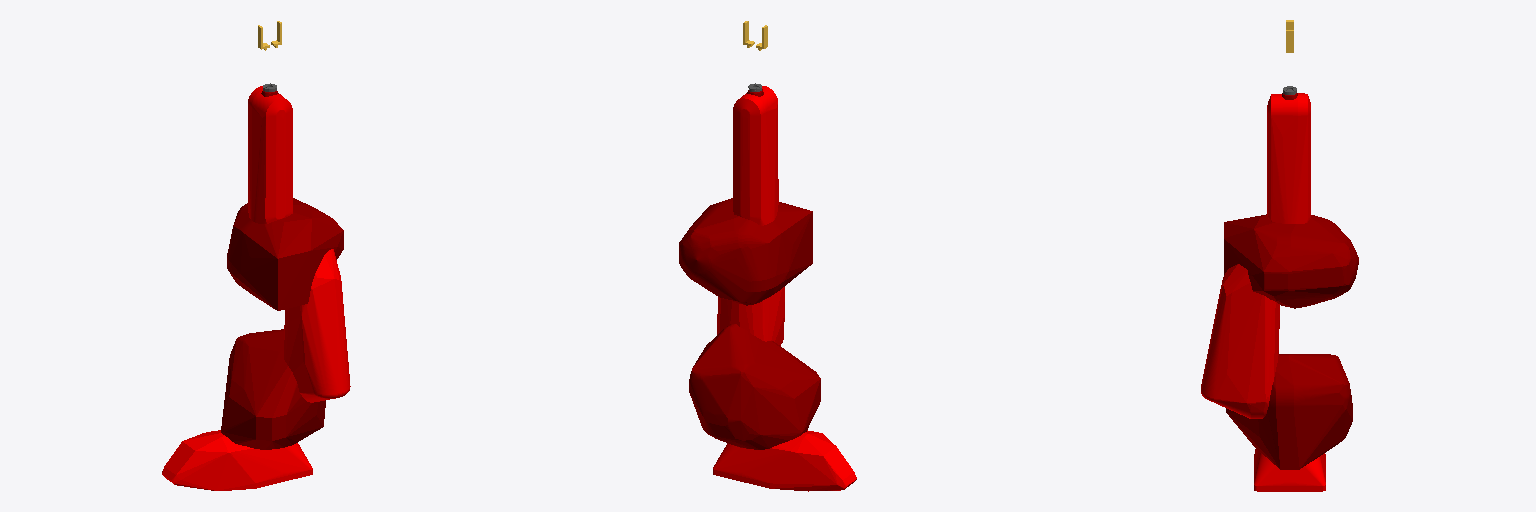
URDF robot description (comau_smart5_six):
<?xml version="1.0"?>
<robot name="comau_smart5_six" xmlns:xacro="http://ros.org/wiki/xacro">
  <material name="cyan">
    <color rgba="0 1 1 1"/>
  </material>
  <material name="dark_red">
    <color rgba="0.6 0.0 0 1"/>
  </material>
  <material name="red">
    <color rgba="1.0 0 0 1"/>
  </material>
  <material name="dark_grey">
    <color rgba="0.76 0.76 0.76 1" />
  </material>
  <material name="darker_grey">
    <color rgba="0.4 0.4 0.4 1" />
  </material>
  <material name="gripper_yellow">
    <color rgba="1.0 0.8 0.3 1" />
  </material>
  <material name="orange">
    <color rgba="1 0.64 0.0 1" />
  </material>
  <material name="black">
    <color rgba="0.0 0.0 0.0 1" />
  </material>

  <!-- **************** WORLD LINK ********************** -->
  <link name="world" />

  <!-- **************** BASE COMAU ********************** -->
  <link name="base_comau">
    <visual>
      <origin xyz="0 0 0" rpy="0 0 0" />
      <geometry>
      <mesh
      filename="package://render_robot_urdf/meshes/stl/base.stl"
      scale="0.001 0.001 0.001"
        />
      </geometry>
    
      <material name="red" />
    </visual>

  <inertial>
    <origin xyz="-0.10060 0.00262 0.08516" rpy="0 0 0" />
    <mass value="125.01405"/>
    <inertia
      ixx="0.81984" ixy="-0.08140" ixz="-0.08589"
      iyy="2.56616" iyz="0.00694"
      izz="2.84953"/>
  </inertial>

  <collision>
    <origin xyz="0 0 0" rpy="0 0 0" />
    <geometry>
      <mesh
      filename="package://render_robot_urdf/meshes/stl/base.stl"
      scale="0.001 0.001 0.001"
        />
    </geometry>
  </collision>
  </link>
  
  <!-- **************** AXIS 1 ********************** -->
  <link name="axes_1">
  <visual>
    <geometry>
    <mesh
	filename="package://render_robot_urdf/meshes/stl/axes_1.stl"
	scale="0.001 0.001 0.001"
      />
    </geometry>
    
    <material name="dark_red" />
  </visual>

  <inertial>
    <origin xyz="0.03242 0.01778 0.12409" rpy="0 0 0" />
    <mass value="61.340186"/>
    <inertia
      ixx="7.439629" ixy="1.308878" ixz="-0.207593"
      iyy="1.34393" iyz="0.801292"
      izz="7.58969" />
  </inertial>

  <collision>
    <origin xyz="0 0 0" rpy="0 0 0" />
    <geometry>
      <mesh
      filename="package://render_robot_urdf/meshes/stl/axes_1.stl"
      scale="0.001 0.001 0.001"
        />
    </geometry>
  </collision>
  </link>

  <!-- **************** AXIS 2 ********************** -->
  <link name="axes_2">
  <visual>
    
    <geometry>
    <mesh 
      filename="package://render_robot_urdf/meshes/stl/axes_2.stl"
      scale="0.001 0.001 0.001"
      />
    </geometry>
    
    <material name="red" />
  </visual>

  <inertial>
    <origin xyz="-0.00776 0.01741 0.18315" rpy="0 0 0" />
    <mass value="27.961877"/>
    <inertia
      ixx="0.647025" ixy="0.072866" ixz="0.849004"
      iyy="2.614907" iyz="-0.047671"
      izz="2.081713" />
  </inertial>

  <collision>
    <origin xyz="0 0 0" rpy="0 0 0" />
    <geometry>
      <mesh 
      filename="package://render_robot_urdf/meshes/stl/axes_2.stl"
      scale="0.001 0.001 0.001"
        />
    </geometry>
  </collision>
  </link>

  <!-- **************** AXIS 3 ********************** -->
  <link name="axes_3">
  <visual>
    <geometry>
    <mesh 
      filename="package://render_robot_urdf/meshes/stl/axes_3.stl"
      scale="0.001 0.001 0.001"
      />
    </geometry>
    
    <material name="dark_red" />
  </visual>

  <inertial>
    <origin xyz="-0.02847 -0.02463 0.09430" rpy="0 0 0" />
    <mass value="20.628123"/>
    <inertia
      ixx="0.237192" ixy="-0.008851" ixz="0.063039"
      iyy="0.287495" iyz="-0.002462"
      izz="0.37129" />
  </inertial>

  <collision>
    <origin xyz="0 0 0" rpy="0 0 0" />
    <geometry>
      <mesh
      filename="package://render_robot_urdf/meshes/stl/axes_3.stl"
      scale="0.001 0.001 0.001"
        />
    </geometry>
  </collision>
  </link>

  <!-- **************** AXIS 4 ********************** -->
  <link name="axes_4">
  <visual>    
    <geometry>
    <mesh 
      filename="package://render_robot_urdf/meshes/stl/axes_4.stl"
      scale="0.001 0.001 0.001"
      />
    </geometry>
    
    <material name="red" />
  </visual>

  <inertial>
    <origin xyz="0.26341 -0.00244 -0.00002" rpy="0 0 0" />
    <mass value="19.701023"/>
    <inertia
      ixx="1.53526" ixy="0.000725" ixz="-0.005893"
      iyy="0.087447" iyz="0.00579"
      izz="1.561065" />
  </inertial>

  <collision>
    <origin xyz="0 0 0" rpy="0 0 0" />
    <geometry>
      <mesh
      filename="package://render_robot_urdf/meshes/stl/axes_4.stl"
      scale="0.001 0.001 0.001"
        />
    </geometry>
  </collision>
  </link>

  <!-- **************** AXIS 5 ********************** -->
  <link name="axes_5">
  <visual>    
    <geometry>
    <mesh
       filename="package://render_robot_urdf/meshes/stl/axes_5.stl"
      scale="0.001 0.001 0.001"
      />
    </geometry>
    
    <material name="dark_red" />
  </visual>

  <inertial>
    <origin xyz="0.02065 0.00074 -0.00007" rpy="0 0 0" />
    <mass value="2.020671"/>
    <inertia
      ixx="0.003867" ixy="0.000004" ixz="0.000714"
      iyy="0.003656" iyz="-0.000006"
      izz="0.003066" />
  </inertial>

  <collision>
    <origin xyz="0 0 0" rpy="0 0 0" />
    <geometry>
      <mesh      
      filename="package://render_robot_urdf/meshes/stl/axes_5.stl"
      scale="0.001 0.001 0.001"
        />
    </geometry>
  </collision>
  </link>

  <!-- **************** AXIS 6 ********************** -->
  <link name="axes_6">
  <visual>    
    <geometry>
    <mesh 
      filename="package://render_robot_urdf/meshes/stl/axes_6.stl"
      scale="0.001 0.001 0.001"
      />
    </geometry>
    
    <material name="darker_grey" />
  </visual>

  <inertial>
    <origin xyz="-0.00746 -0.00003 -0.00067" rpy="0 0 0" />
    <mass value="0.241159"/>
    <inertia
      ixx="0.001911" ixy="0.000000" ixz="-0.000007"
      iyy="0.001905" iyz="0.000001"
      izz="0.000118" />
  </inertial>

  <collision>
    <origin xyz="0 0 0" rpy="0 0 0" />
    <geometry>
      <mesh
      filename="package://render_robot_urdf/meshes/dae/axes_6.dae"
      scale="0.001 0.001 0.001"
        />
    </geometry>
  </collision>
  </link>

<!--************************************************************************************-->

<!--**********************************************************************-->
<!--************************* CILINDRO_BASE_LMS_400 ******************************-->

 <link name="blocco_cilindro_base">
  <visual>
    <geometry>
    <mesh
       filename="package://render_robot_urdf/meshes/stl/box.stl"
      scale="1 1 1"
      />
    </geometry>
    
    <material name="darker_grey" />
  </visual>

  <inertial>
    <origin xyz="0.02065 0.00074 -0.00007" rpy="0 0 0" />
    <mass value="2.020671"/>
    <inertia
      ixx="0.003867" ixy="0.000004" ixz="0.000714"
      iyy="0.003656" iyz="-0.000006"
      izz="0.003066" />
  </inertial>

  <collision>
    <origin xyz="0 0 0" rpy="0 0 0" />
    <geometry>
      <mesh      
      filename="package://render_robot_urdf/meshes/stl/box.stl"
      scale="1 1 1"
        />
    </geometry>
  </collision>
  </link>

<!--*****************************************************************************************-->

<link name="piastra_supporto">
  <!--<visual>
    <geometry>
    <box size="0.35 0.35 0.50"/>
    </geometry>
    
    <material name="dark_grey" />
  </visual>-->

  <inertial>
    <origin xyz="0.02065 0.00074 -0.00007" rpy="0 0 0" />
    <mass value="2.020671"/>
    <inertia
      ixx="0.003867" ixy="0.000004" ixz="0.000714"
      iyy="0.003656" iyz="-0.000006"
      izz="0.003066" />
  </inertial>

  <collision>
    <origin xyz="0 0 0" rpy="0 0 0" />
    <geometry>
      <box size="0.35 0.35 0.50"/>
    </geometry>
  </collision>
  </link>


<!--*******************************************************************************************-->

<link name="gripper_body">
  <visual>
    <geometry>
    <mesh      
      filename="package://render_robot_urdf/meshes/stl/box.stl"
      scale="1 1 1"
        />
    </geometry>
    <material name="darker_grey">
    </material>
    
  </visual>

  <inertial>
    <origin xyz="0.02065 0.00074 -0.00007" rpy="0 0 0" />
    <mass value="2.020671"/>
    <inertia
      ixx="0.003867" ixy="0.000004" ixz="0.000714"
      iyy="0.003656" iyz="-0.000006"
      izz="0.003066" />
  </inertial>

  <collision>
    <origin xyz="0 0 0" rpy="0 0 0" />
    <geometry>
      <mesh      
      filename="package://render_robot_urdf/meshes/stl/box.stl"
      scale="1 1 1"
        />
    </geometry>
  </collision>
  </link>

<!--********************************************************************************************-->

<link name="pinza_1a">
  <visual>
    <geometry>
    <box size="0.01 0.01 0.03"/>
    </geometry>
    
    <material name="gripper_yellow" />
  </visual>

  <inertial>
    <origin xyz="0.02065 0.00074 -0.00007" rpy="0 0 0" />
    <mass value="2.020671"/>
    <inertia
      ixx="0.003867" ixy="0.000004" ixz="0.000714"
      iyy="0.003656" iyz="-0.000006"
      izz="0.003066" />
  </inertial>

  <collision>
    <origin xyz="0 0 0" rpy="0 0 0" />
    <geometry>
      <box size="0.01 0.01 0.03"/>
    </geometry>
  </collision>
  </link>

<!--**********************************************************************************************-->

<link name="pinza_1b">
  <visual>
    <geometry>
    <box size="0.01 0.01 0.03"/>
    </geometry>
    
    <material name="gripper_yellow" />
  </visual>

  <inertial>
    <origin xyz="0.02065 0.00074 -0.00007" rpy="0 0 0" />
    <mass value="2.020671"/>
    <inertia
      ixx="0.003867" ixy="0.000004" ixz="0.000714"
      iyy="0.003656" iyz="-0.000006"
      izz="0.003066" />
  </inertial>

  <collision>
    <origin xyz="0 0 0" rpy="0 0 0" />
    <geometry>
      <box size="0.01 0.01 0.03"/>
    </geometry>
  </collision>
  </link>

<!--*******************************************************************************-->

<link name="pinza_2a">
  <visual>
    <geometry>
    <box size="0.03 0.01 0.03"/>
    </geometry>
    
    <material name="gripper_yellow" />
  </visual>

  <inertial>
    <origin xyz="0.02065 0.00074 -0.00007" rpy="0 0 0" />
    <mass value="2.020671"/>
    <inertia
      ixx="0.003867" ixy="0.000004" ixz="0.000714"
      iyy="0.003656" iyz="-0.000006"
      izz="0.003066" />
  </inertial>

  <collision>
    <origin xyz="0 0 0" rpy="0 0 0" />
    <geometry>
      <box size="0.03 0.01 0.03"/>
    </geometry>
  </collision>
  </link>

<!--**********************************************************************************-->

<link name="pinza_2b">
  <visual>
    <geometry>
    <box size="0.03 0.01 0.03"/>
    </geometry>
    
    <material name="gripper_yellow" />
  </visual>

  <inertial>
    <origin xyz="0.02065 0.00074 -0.00007" rpy="0 0 0" />
    <mass value="2.020671"/>
    <inertia
      ixx="0.003867" ixy="0.000004" ixz="0.000714"
      iyy="0.003656" iyz="-0.000006"
      izz="0.003066" />
  </inertial>

  <collision>
    <origin xyz="0 0 0" rpy="0 0 0" />
    <geometry>
      <box size="0.03 0.01 0.03"/>
    </geometry>
  </collision>
  </link>

<!--************************************************************************-->

<link name="pinza_3a">
  <visual>
    <geometry>
    <box size="0.01 0.10 0.03"/>
    </geometry>
    
    <material name="gripper_yellow" />
  </visual>

  <inertial>
    <origin xyz="0.02065 0.00074 -0.00007" rpy="0 0 0" />
    <mass value="2.020671"/>
    <inertia
      ixx="0.003867" ixy="0.000004" ixz="0.000714"
      iyy="0.003656" iyz="-0.000006"
      izz="0.003066" />
  </inertial>

  <collision>
    <origin xyz="0 0 0" rpy="0 0 0" />
    <geometry>
      <box size="0.01 0.10 0.03"/>
    </geometry>
  </collision>
  </link>

<!--**************************************************************-->

<link name="pinza_3b">
  <visual>
    <geometry>
    <box size="0.01 0.10 0.03"/>
    </geometry>
    
    <material name="gripper_yellow" />
  </visual>

  <inertial>
    <origin xyz="0.02065 0.00074 -0.00007" rpy="0 0 0" />
    <mass value="2.020671"/>
    <inertia
      ixx="0.003867" ixy="0.000004" ixz="0.000714"
      iyy="0.003656" iyz="-0.000006"
      izz="0.003066" />
  </inertial>

  <collision>
    <origin xyz="0 0 0" rpy="0 0 0" />
    <geometry>
      <box size="0.01 0.10 0.03"/>
    </geometry>
  </collision>
  </link>
  
  
<!-- ********************************************************-->
  <!-- ********************* JOINTS *********************** -->

  <joint name="world_joint"  type="fixed">
    <origin xyz="0 0 0" rpy="0 0 0" />
  <parent link="world"/>
  <child link="base_comau"/>
  </joint>

  <joint name="joint_1" type="revolute">
    <parent link="base_comau" />
    <child link="axes_1" />
  <origin xyz="0 0 0.20140" rpy="0 0 0"/>
  <axis xyz="0 0 -1" />
  <!-- *********** EFFORT TO MAP CORRECTLY *************** -->
  <limit lower="-2.094" upper="0.959" effort="12" velocity="2.443"/>  <!--2.443-->
  </joint>

  <joint name="joint_2" type="revolute">
    <parent link="axes_1" />
    <child link="axes_2" />
  <origin xyz="0.150 -0.090 0.2486" rpy="0 0 0"/>
  <axis xyz="0 1 0"/>
  <!-- *********** EFFORT TO MAP CORRECTLY *************** -->
  <limit lower="-1.484" upper="1.705" effort="12" velocity="2.792"/>  <!--2.792-->
  </joint>

  <joint name="joint_3" type="revolute">
    <parent link="axes_2" />
    <child link="axes_3" />
  <origin xyz="0 0.107 0.590" rpy="0 -1.57 0"/>
  <axis xyz="0 -1 0"/>
  <!-- *********** EFFORT TO MAP CORRECTLY *************** -->
  <limit lower="-2.792526803" upper="0.0" effort="12" velocity="2.967"/>
  </joint>

  <joint name="joint_4" type="revolute">
    <parent link="axes_3" />
    <child link="axes_4" />
  <origin xyz="0.100 -0.017 0.130" rpy="0 0 0"/>
  <axis xyz="-1 0 0"/>
  <!-- *********** EFFORT TO MAP CORRECTLY *************** -->
  <limit lower="-3.665" upper="3.665" effort="12" velocity="7.854"/>  <!--7.854-->
  </joint>

  <joint name="joint_5" type="revolute">
    <parent link="axes_4" />
    <child link="axes_5" />
  <origin xyz="0.54707 0.0 0.0" rpy="0 0 0"/>
  <axis xyz="0 1 0"/>
  <!-- *********** EFFORT TO MAP CORRECTLY *************** -->
  <limit lower="-1.57" upper="1.57" effort="12" velocity="6.545"/>  <!--6.545-->
  </joint>

  <joint name="joint_6" type="revolute">
    <parent link="axes_5" />
    <child link="axes_6" />
  <origin xyz="0.095 0.0 0.0" rpy="0 1.57079 0"/>
  <axis xyz="0 0 -1"/>
  <!-- *********** EFFORT TO MAP CORRECTLY *************** -->
  <!--<limit lower="-47.12" upper="47.12" effort="12" velocity="9.6"/>-->
        <limit lower="-3.14159" upper="3.14159" effort="12" velocity="9.6"/>  <!--9.6-->
  </joint>

<!--*****************************************************************************-->

<joint name="joint_7"  type="fixed">
    <origin xyz="0 0 0.077" rpy="-1.57079 1.57079 0"/>
  <parent link="axes_6"/>
  <child link="blocco_cilindro_base"/>
  </joint>

<!--*******************************************************************************************-->

<joint name="joint_9"  type="fixed">
    <origin xyz="0 0 -0.25" rpy="0 0 0"/>
  <parent link="world"/>
  <child link="piastra_supporto"/>
  </joint>

<!--********************************************************************************************-->

<joint name="joint_11"  type="fixed">
    <origin xyz="-0.00975 0 0" rpy="1.57079 -1.57079 0"/>
  <parent link="blocco_cilindro_base"/>
  <child link="gripper_body"/>
  </joint>

<!--*************************************************************************************-->

<joint name="joint_12"  type="prismatic">
    <origin xyz="0 0.0986 -0.0486" rpy="0 1.57079 0"/>
  <parent link="gripper_body"/>
  <child link="pinza_1a"/>
        <limit effort="1" lower="-0.0345" upper="-0.01" velocity="1"/>

  </joint>

<!--******************************************************************************************-->

<joint name="joint_13"  type="prismatic">
    <origin xyz="0 0.0986 0.0040" rpy="0 1.57079 0"/>		<!-- xyz = 0 0.0986 -0.0204 -->
    <!--<origin xyz="0 0.0986 -0.0204" rpy="0 1.57079 0"/>-->		<!-- xyz = 0 0.0986 -0.0204 -->
  <parent link="gripper_body"/>
  <child link="pinza_1b"/>
        <limit effort="1" lower="-0.0345" upper="-0.01" velocity="1"/>
        <!--<mimic joint="joint_12" multiplier="-1.0" offset="-0.0692" />-->
  </joint>

<!--*************************************************************************************-->

<joint name="joint_14"  type="fixed">
    <origin xyz="0 0.01 0" rpy="0 0 0"/>
  <parent link="pinza_1a"/>
  <child link="pinza_2a"/>
  </joint>

<!--***************************************************************************************-->

<joint name="joint_15"  type="fixed">
    <origin xyz="0 0.01 0" rpy="0 0 0"/>
  <parent link="pinza_1b"/>
  <child link="pinza_2b"/>
  </joint>

<!--*****************************************************************************************-->

<joint name="joint_16"  type="fixed">
    <origin xyz="0.02 0.045 0" rpy="0 0 0"/>
  <parent link="pinza_2a"/>
  <child link="pinza_3a"/>
  </joint>

<!--*****************************************************************************************-->

<joint name="joint_17"  type="fixed">
    <origin xyz="-0.02 0.045 0" rpy="0 0 0"/>
  <parent link="pinza_2b"/>
  <child link="pinza_3b"/>
  </joint>

   

<!--***********************************************************************************-->
<!--*******************************************************************************************-->  
<!-- ***GAZEBO*** -->

<gazebo>
<plugin name="smart5six_gazebo_plugin" filename="libsmart5six_gazebo_plugin.so">
<ns>comau</ns>
<robotSimType>comau/Smart-5_Six</robotSimType>
</plugin>
</gazebo>
<gazebo reference="base_link">
<material>Gazebo/FlatBlack</material>
</gazebo>


</robot>

--- What the picture shows (computed from the rendered views, not written in the file) ---
3 views of the same robot in one strip: view 1: azimuth 30°, elevation 25°; view 2: azimuth 150°, elevation 25°; view 3: azimuth 270°, elevation 25° (orthographic).
Robot: comau_smart5_six — 17 links, 16 joints (6 revolute, 2 prismatic, 8 fixed); root link world; default pose: joints at zero except 2 at the middle of their limits (joint_12 = -0.0222, joint_13 = -0.0222).
Visible links, largest first — view 1: axes_1, axes_3, axes_2, base_comau, axes_4; view 2: axes_1, axes_3, base_comau, axes_4, axes_2; view 3: axes_3, axes_1, axes_2, axes_4, base_comau.
Link boxes in pixels (x1=…): axes_1: x1=221, y1=329, x2=325, y2=449; axes_3: x1=227, y1=198, x2=343, y2=310; axes_2: x1=284, y1=249, x2=350, y2=402; base_comau: x1=162, y1=430, x2=312, y2=490; axes_4: x1=248, y1=86, x2=292, y2=223; axes_1: x1=689, y1=324, x2=820, y2=449; axes_3: x1=679, y1=198, x2=812, y2=305; base_comau: x1=713, y1=430, x2=856, y2=491; axes_4: x1=733, y1=86, x2=778, y2=225; axes_2: x1=717, y1=287, x2=784, y2=345; axes_3: x1=1224, y1=214, x2=1358, y2=308; axes_1: x1=1226, y1=354, x2=1352, y2=469; axes_2: x1=1201, y1=264, x2=1279, y2=418; axes_4: x1=1267, y1=93, x2=1310, y2=223; base_comau: x1=1254, y1=449, x2=1325, y2=491.
Bounding box of the posed robot: 0.7879 × 0.6593 × 2.07 m (x, y, z).
7 mesh visuals loaded from 8 distinct referenced files (7 binary STL); not drawn: 2 (reference not matched to a file when rendering).